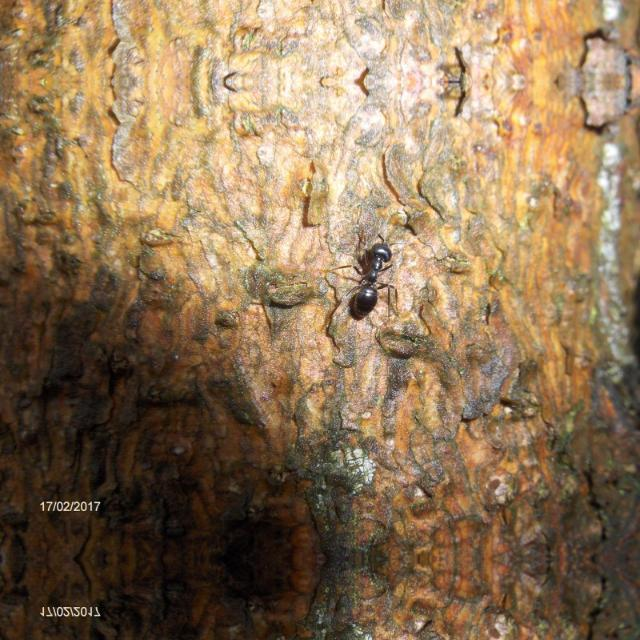Lasius: (343, 222, 402, 318)
